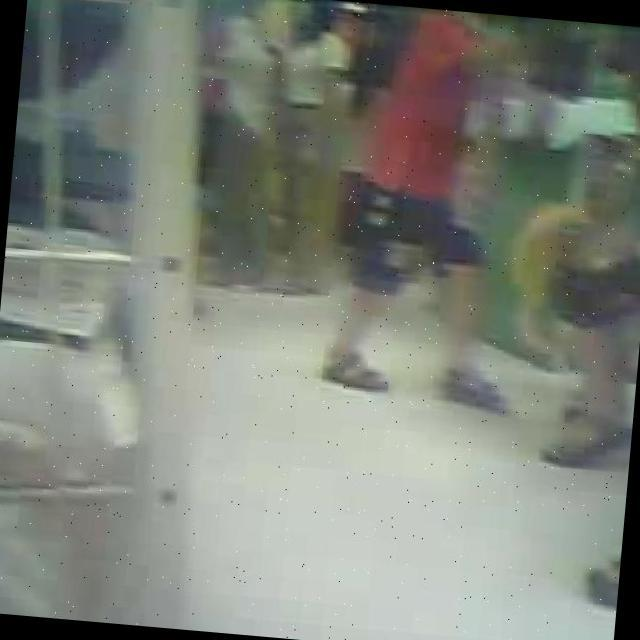person: (322, 2, 542, 406)
